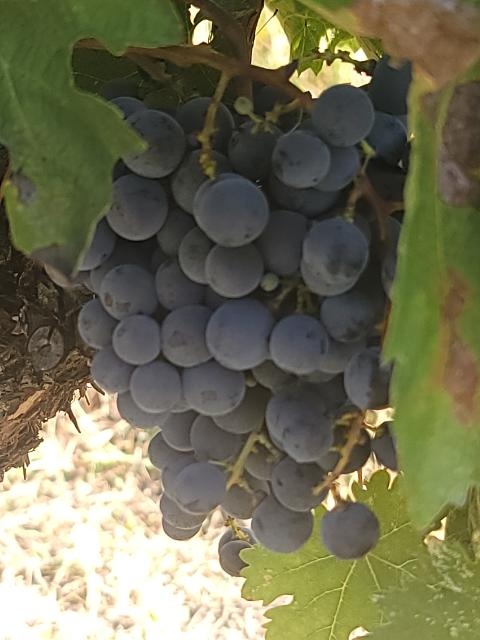grapes: (219, 64, 411, 571), (75, 98, 243, 540)
